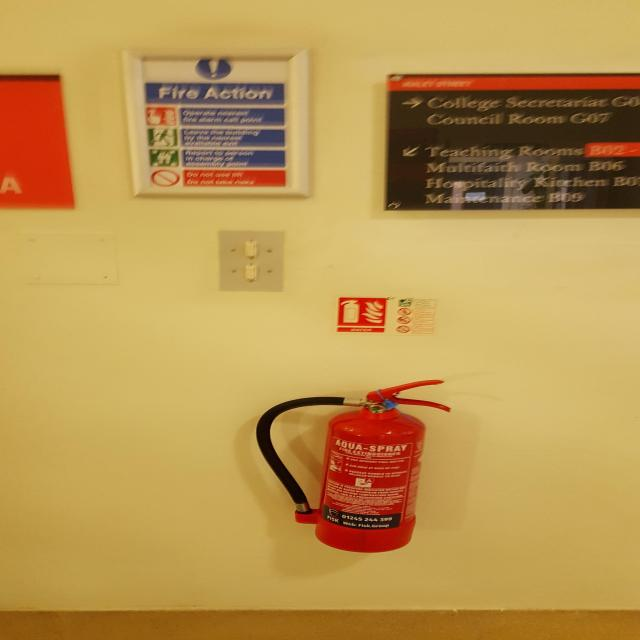fire_extinguisher: (250, 378, 456, 556)
